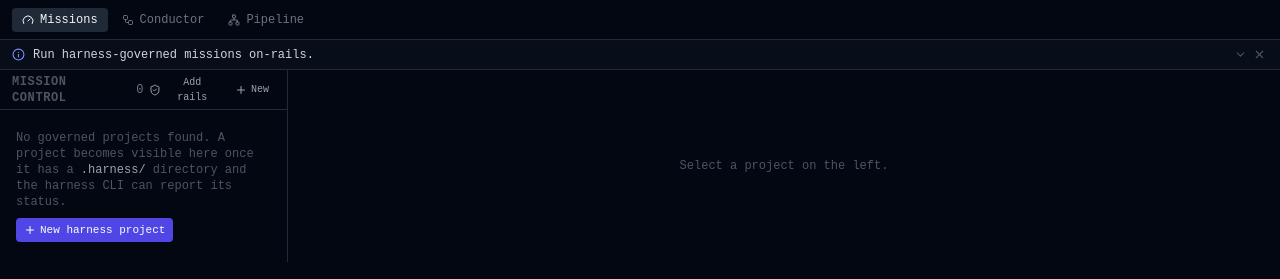
Test: RunsTab — mode switch › switches to the Conductor surface when its mode is selected
This screenshot has width=1280, height=279.
Check: the text "No governed projects found" is shown, box [16,131,254,177]
Step 1. Click the button "Conductor" → [163, 20], box [112,8,214,32]
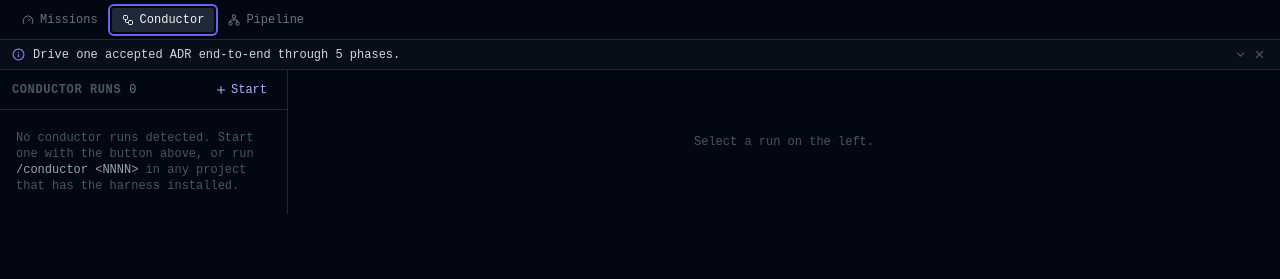
Check: the text "No conductor runs detected" is shown, box [16,131,254,161]
Check: the text "No governed projects found" is gone
